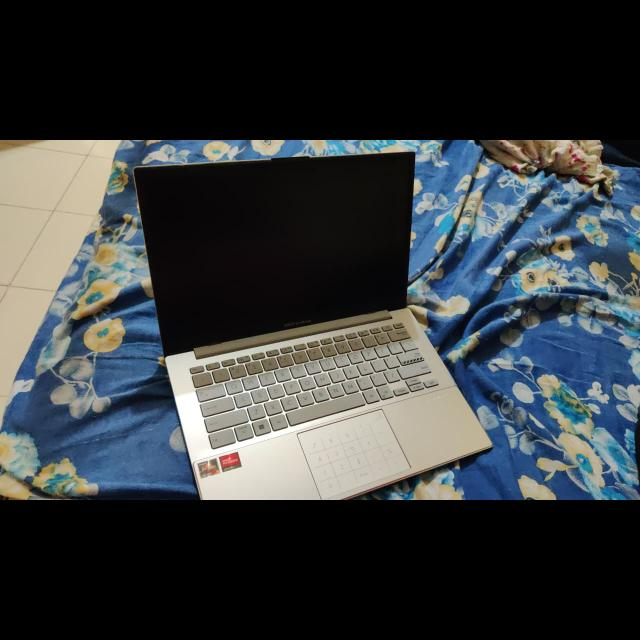laptop: (112, 142, 476, 498)
